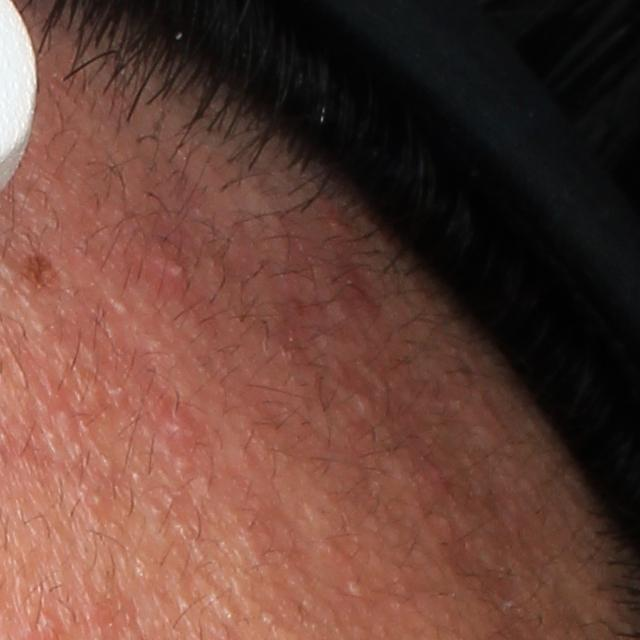nevus: (13, 252, 65, 296)
papule: (151, 393, 215, 455), (143, 247, 189, 301), (36, 610, 64, 638)
